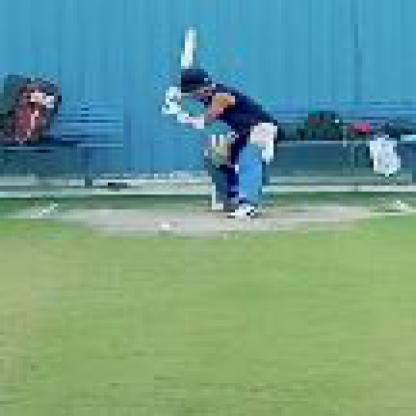ball: (154, 219, 180, 240)
